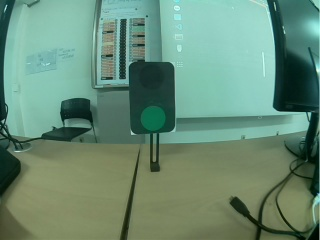green_light: (130, 64, 177, 132)
